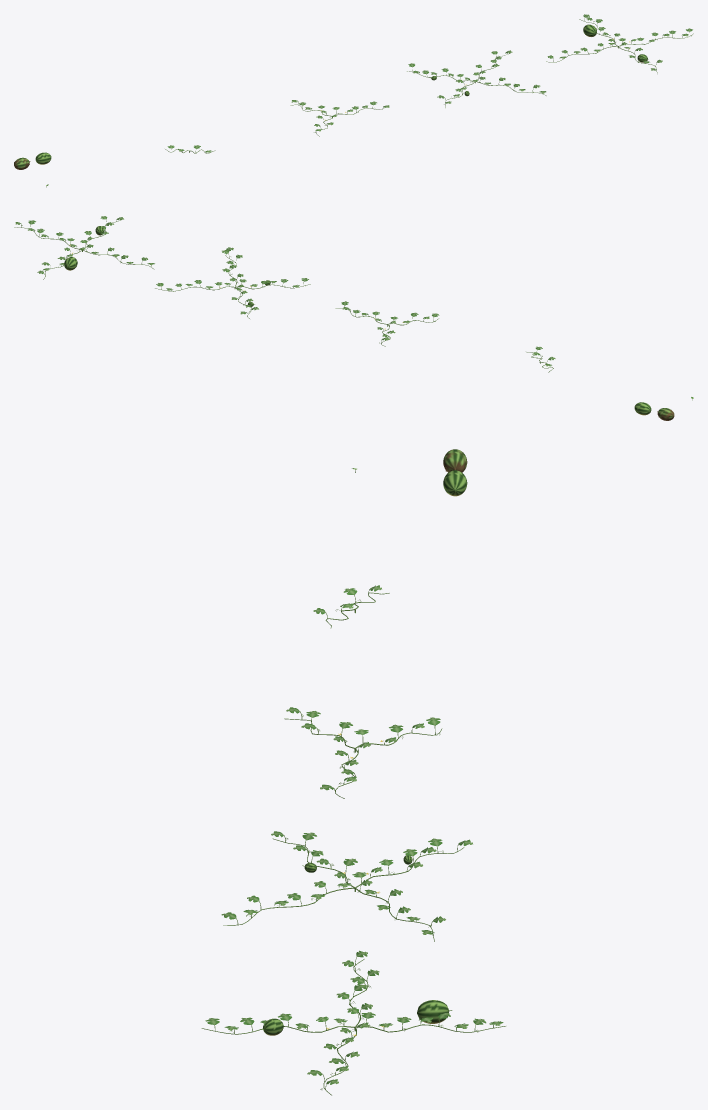
File: fieldworks_watermelon.glb
3 views of the same model, one above another, from view 1: azimuth 30°, elevation 25°; view 2: azimuth 150°, elevation 25°; view 3: azimuth 270°, elevation 25° (orthographic). The views are drawn at different scales.
Parts seen in each view (by area): view 1: watermelon_stage5_ripe, watermelon_stage4_fruit_set, watermelon_stage3_flowering; view 2: watermelon_stage5_ripe, watermelon_stage4_fruit_set, watermelon_stage3_flowering; view 3: watermelon_stage5_ripe, watermelon_stage4_fruit_set, watermelon_stage3_flowering.
Boxes of the visible parts, left/top/right/bottom form: watermelon_stage5_ripe: left=546, top=14, right=693, bottom=73; watermelon_stage4_fruit_set: left=407, top=50, right=546, bottom=107; watermelon_stage3_flowering: left=290, top=100, right=389, bottom=136; watermelon_stage5_ripe: left=14, top=216, right=154, bottom=279; watermelon_stage4_fruit_set: left=155, top=247, right=310, bottom=318; watermelon_stage3_flowering: left=335, top=301, right=439, bottom=346; watermelon_stage5_ripe: left=201, top=950, right=505, bottom=1095; watermelon_stage4_fruit_set: left=221, top=831, right=472, bottom=941; watermelon_stage3_flowering: left=284, top=707, right=442, bottom=798.
Size of the model in its own units: 15 by 0.2448 by 3.05.
